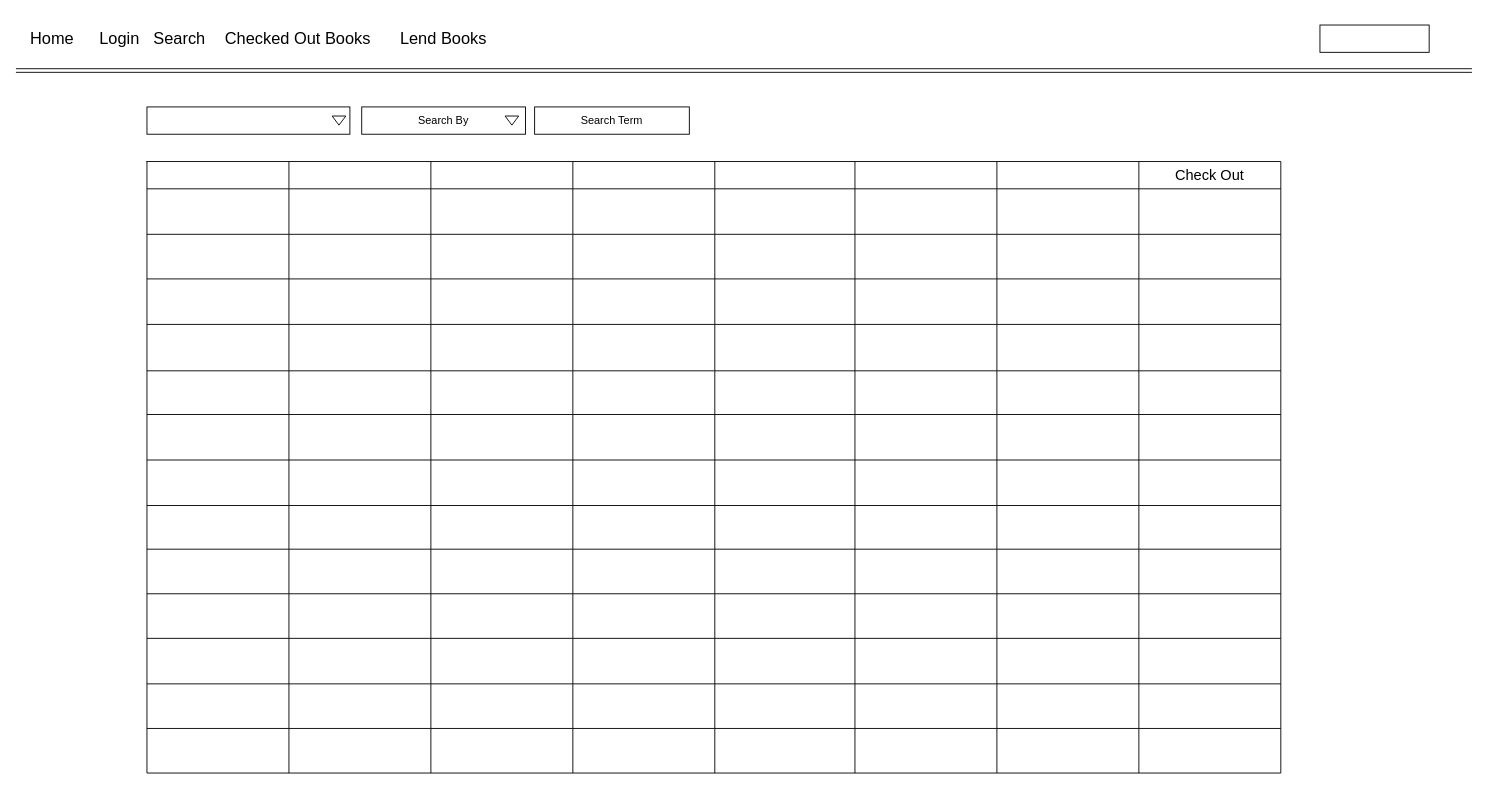
The diagram is 1488 pixels wide and 789 high, and some of its shapes have lost their labels. Each missing label, with the box of its shape:
Logged in as (Librarian): (1319, 24, 1429, 52)
Select Member: (146, 106, 350, 134)
